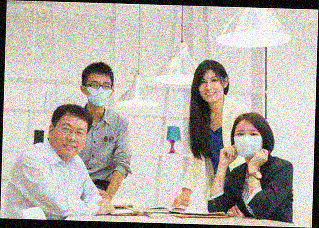with_mask: (233, 126, 264, 160), (83, 78, 113, 109)
without_mask: (52, 119, 89, 159), (199, 74, 224, 103)
